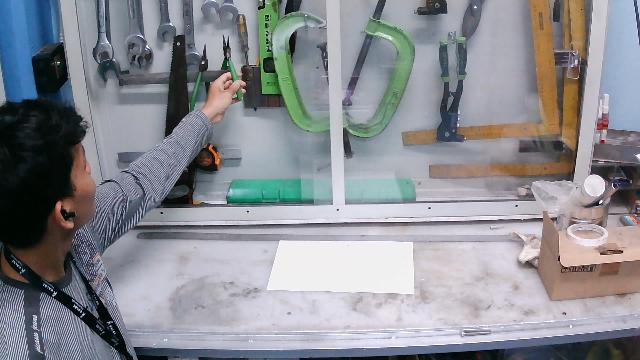tang_cucut_lancip_1: (215, 30, 247, 108)
